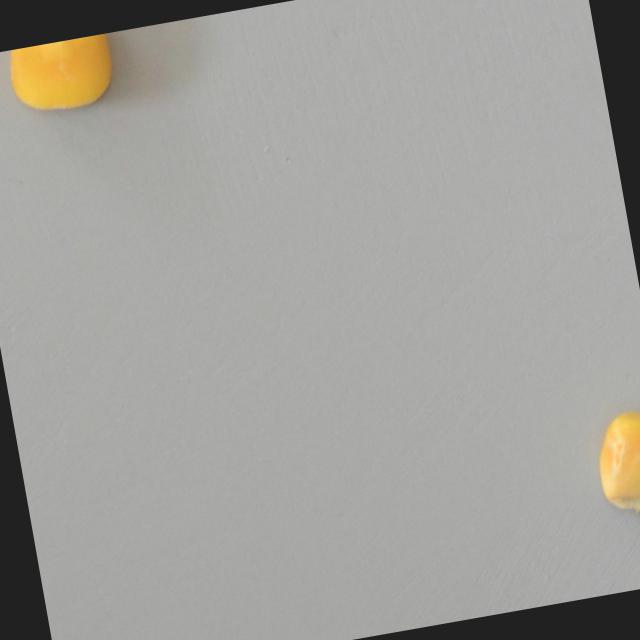no_canjicado: (4, 32, 122, 119)
pelicula: (586, 407, 640, 524)
